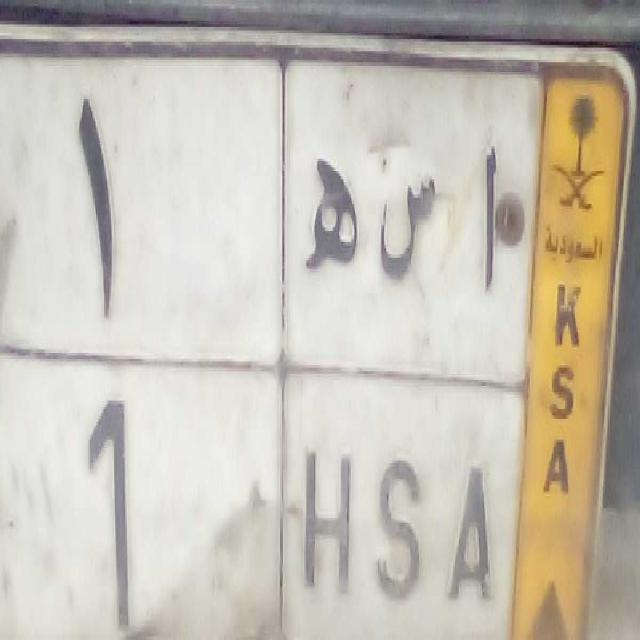license_plate: (0, 346, 524, 640)
